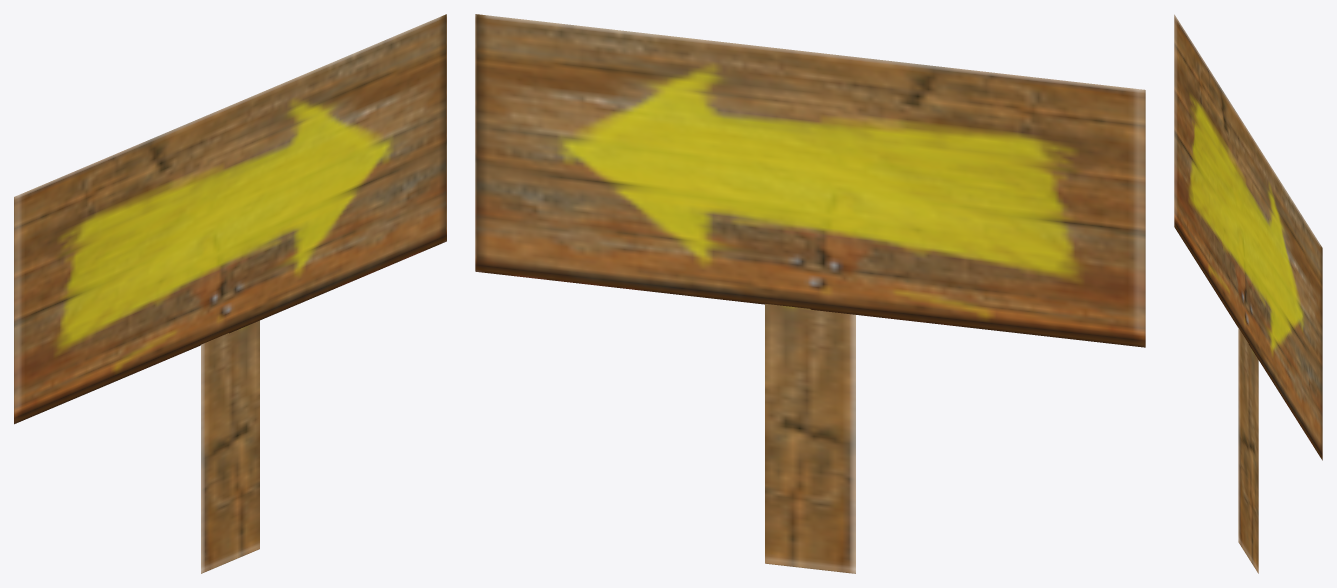
File: rightway09.glb
The picture shows the model from 3 angles, left to right: view 1: azimuth 30°, elevation 25°; view 2: azimuth 150°, elevation 25°; view 3: azimuth 270°, elevation 25°; orthographic projection. The views are drawn at different scales.
Parts seen in each view (by area): view 1: rightway09; view 2: rightway09; view 3: rightway09.
Part boxes in pixels (x1,y1,x2,y2): rightway09: [14, 14, 446, 573]; rightway09: [475, 14, 1145, 573]; rightway09: [1174, 14, 1322, 573].
Size of the model in its own units: 551 by 469 by 148.
Materials: 1 (1 with a texture image).
